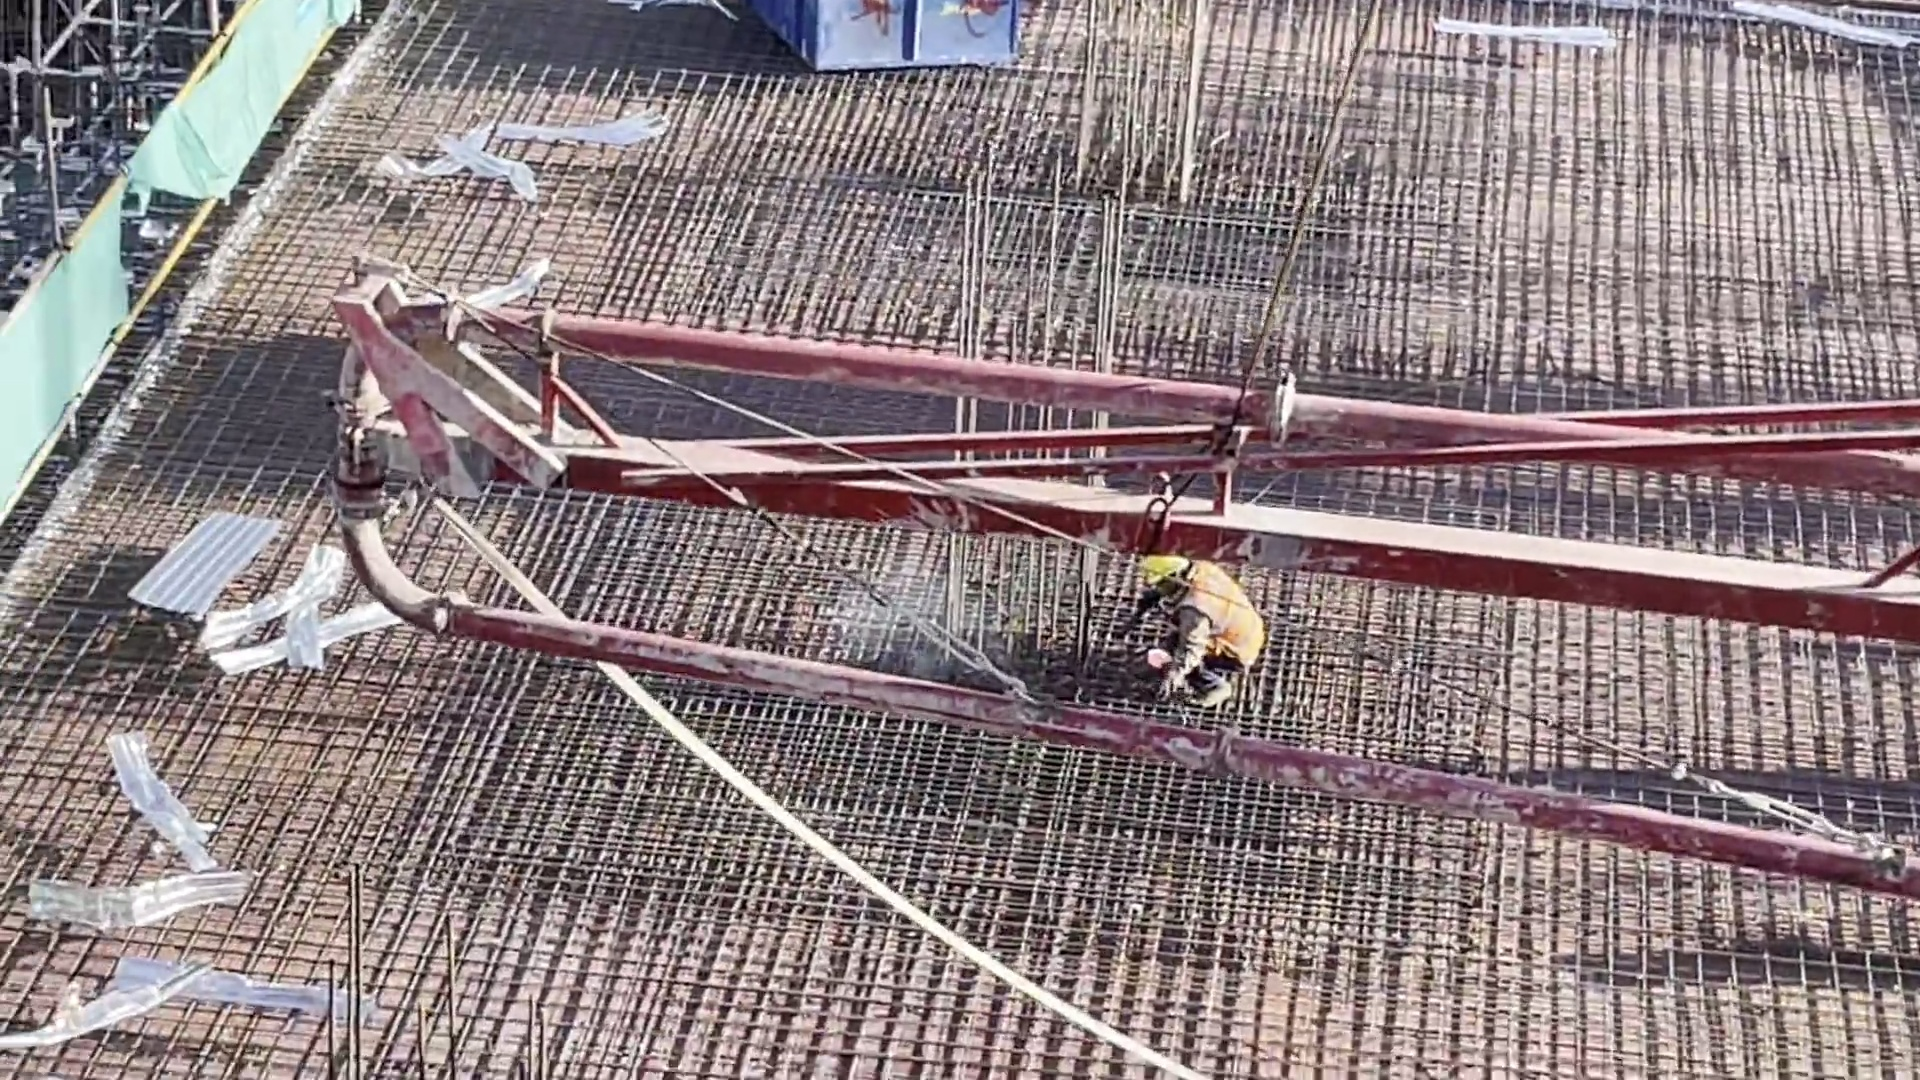helmet: (1142, 553, 1186, 573)
hopper: (773, 1, 1021, 85)
person: (1110, 543, 1281, 723)
vest: (1186, 568, 1262, 687)
